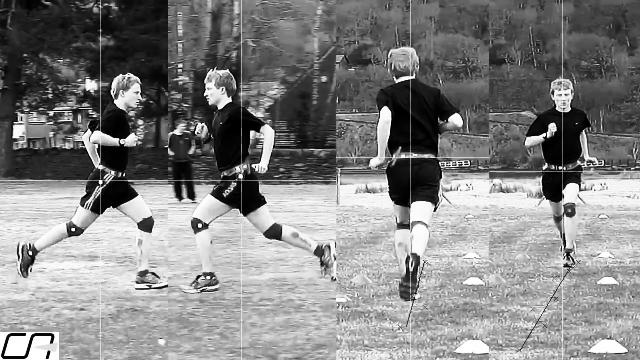berlari: (180, 61, 336, 317), (14, 62, 168, 296), (366, 37, 468, 309), (519, 73, 605, 277)
